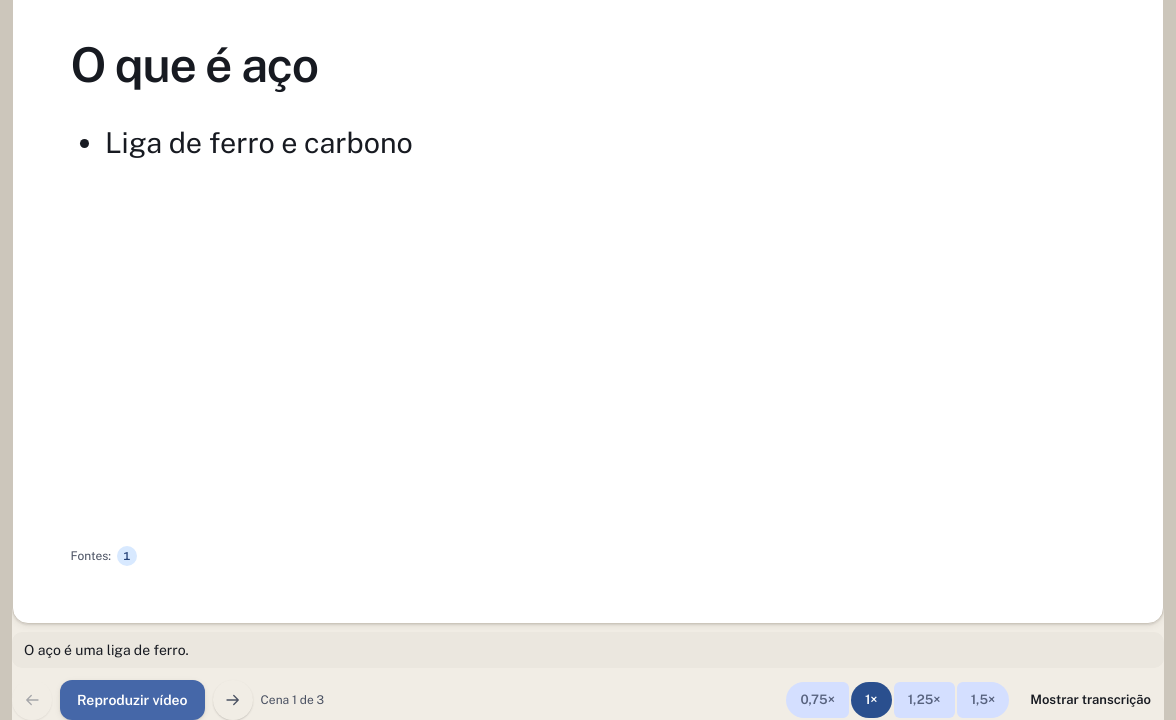
Test: VideoView (D-98) › play reads the first scene, and the caption follows each sentence
(page scrolled)
Click the button "Reproduzir vídeo".
click(132, 700)  # box [60,680,205,719]
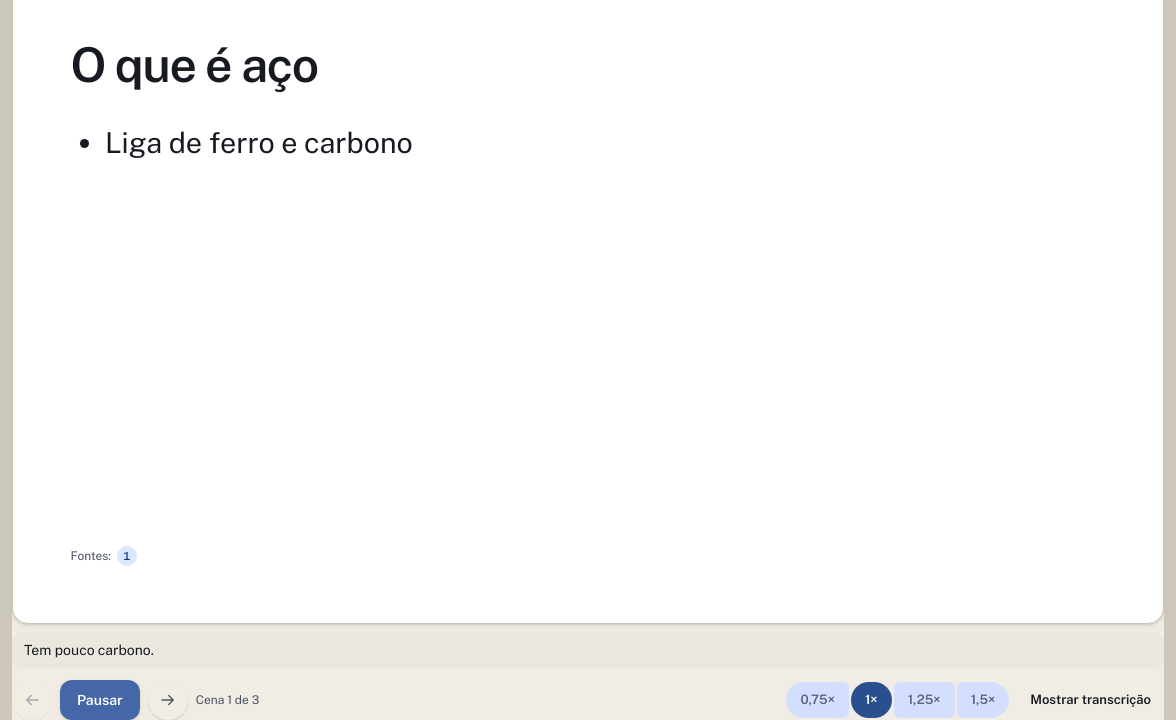
Expected: the heading reads "O que é aço", [70,36,318,92]
Expected: the button "Pausar" is shown, [60,680,140,719]
